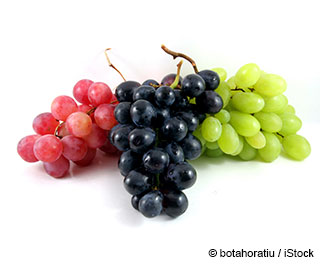Black grapes: (139, 91, 191, 197)
Green grapes: (222, 78, 299, 162)
Red Grapes: (39, 89, 113, 178)
